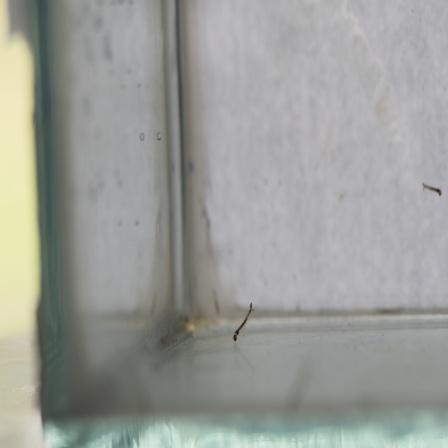Jentik-Nyamuk: (227, 299, 257, 345)
